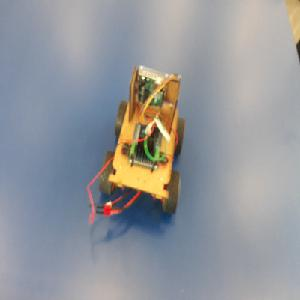Robot: (98, 64, 184, 214)
